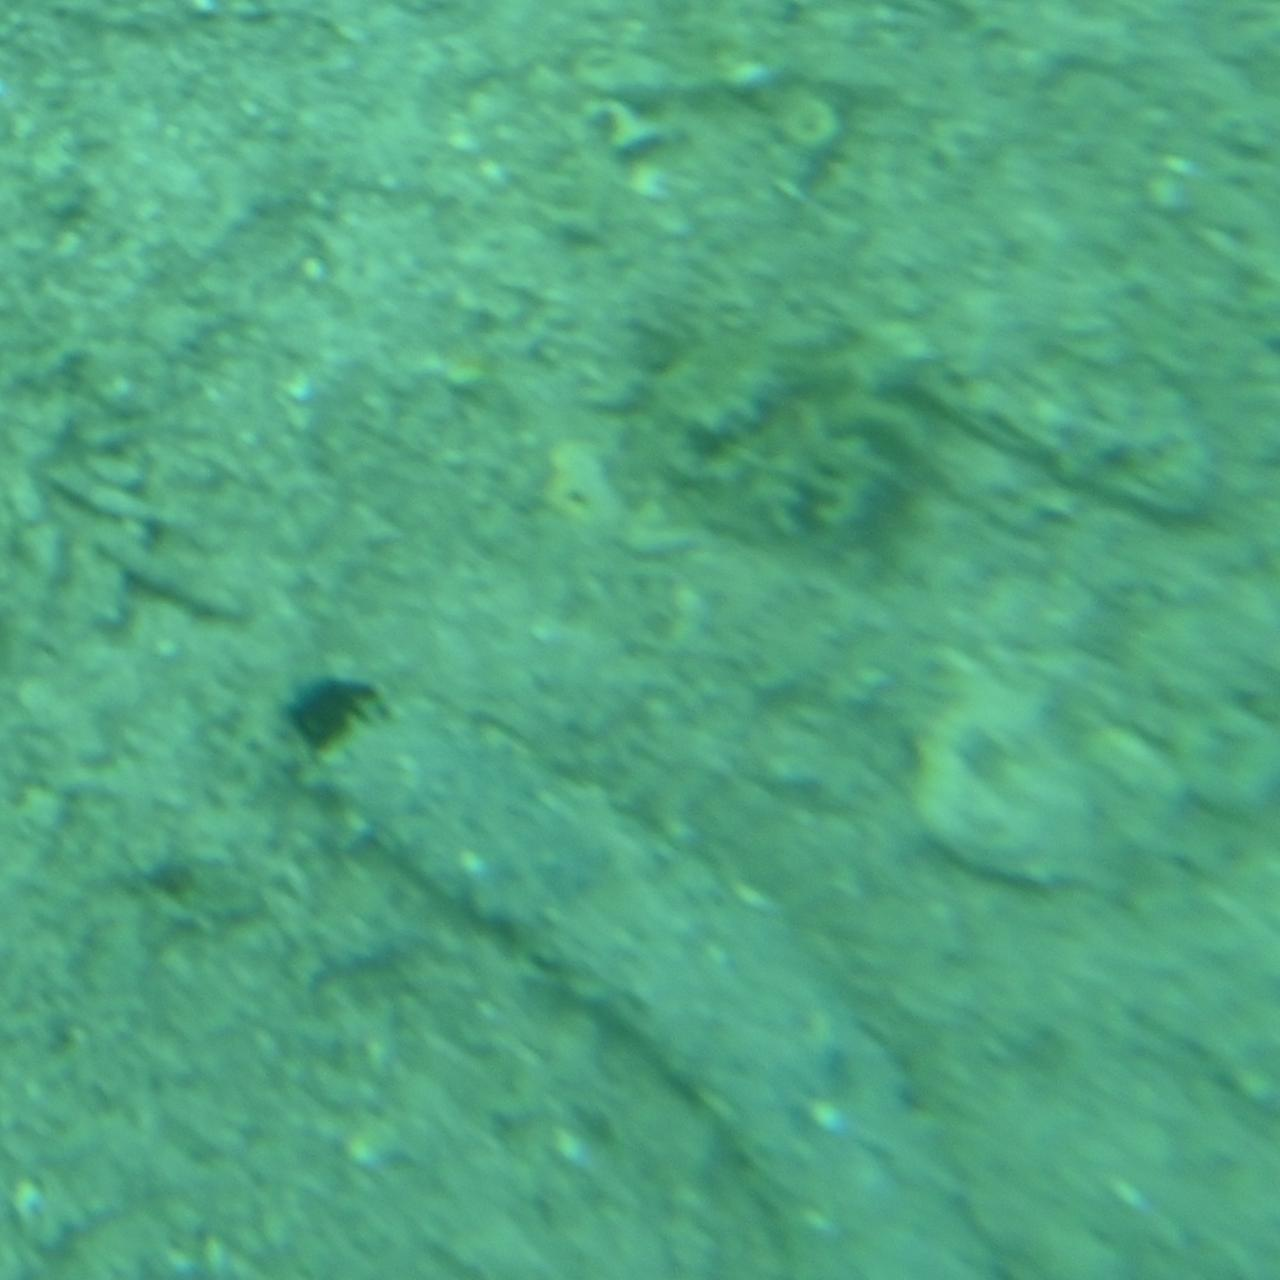Holothuria tubulosa: (270, 658, 1010, 1279)
